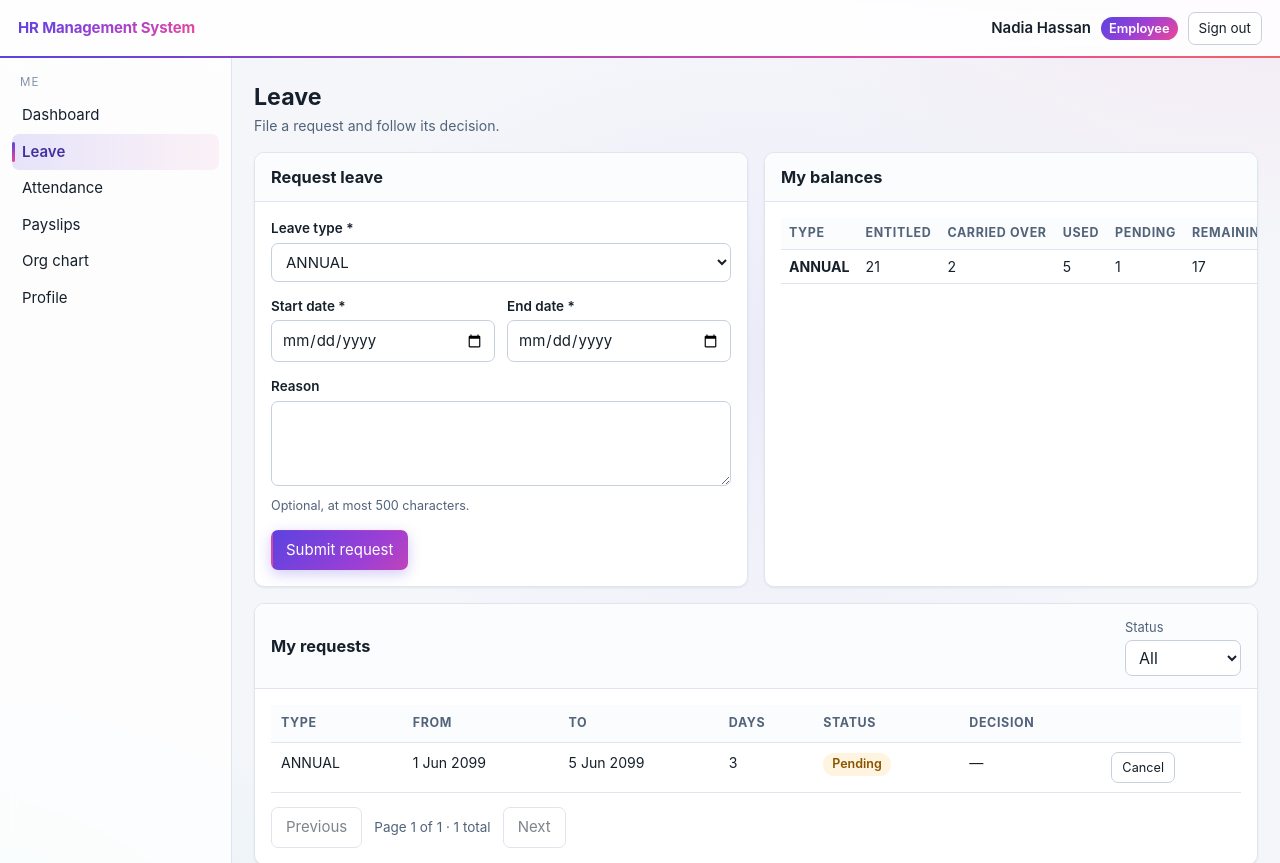
it: leave page › shows the 409 message when the range overlaps an existing request
The image size is (1280, 863).
Type "2099-06-01" into the date field labelled "Start date *". click: (383, 341)
box: [271,320,495,362]
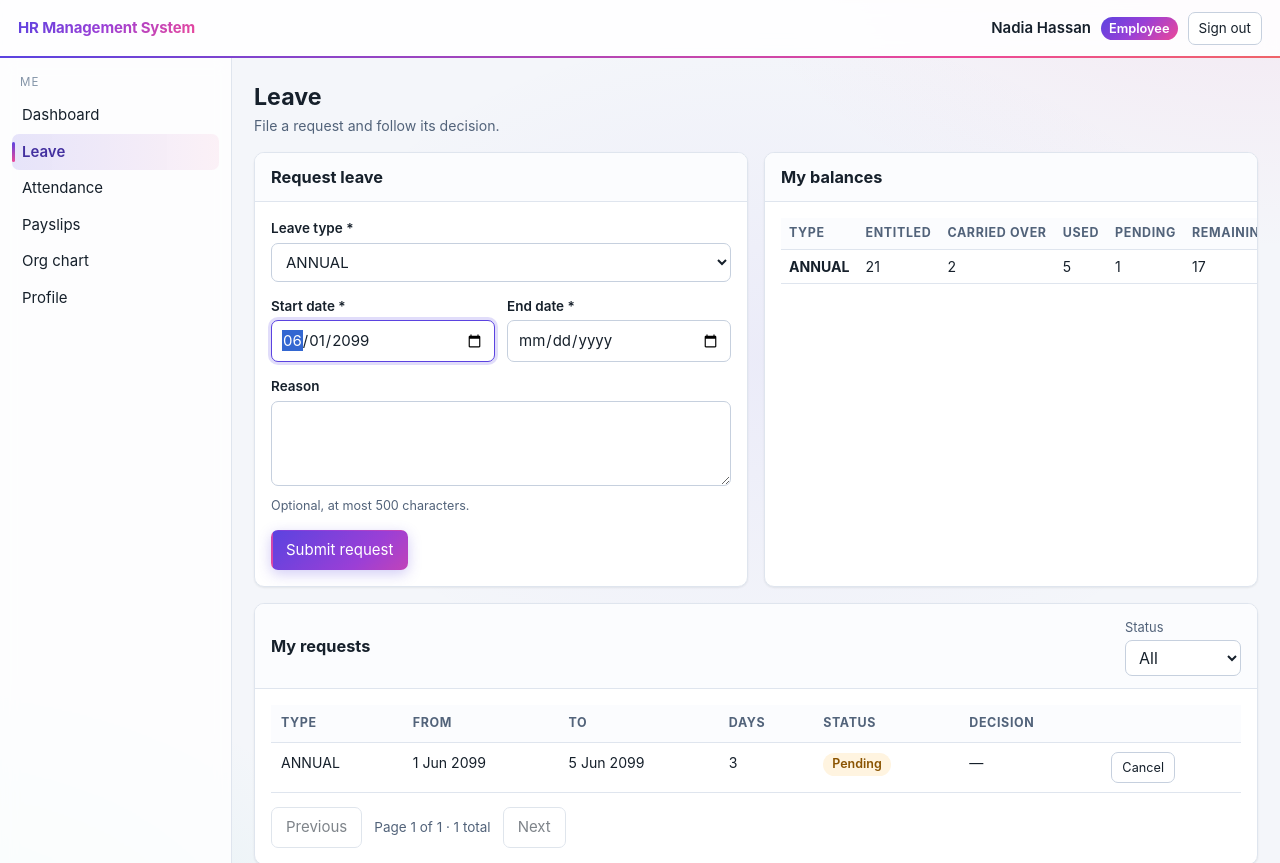
Type "2099-06-05" into the date field labelled "End date *". click: (619, 341)
box: [507,320,731,362]
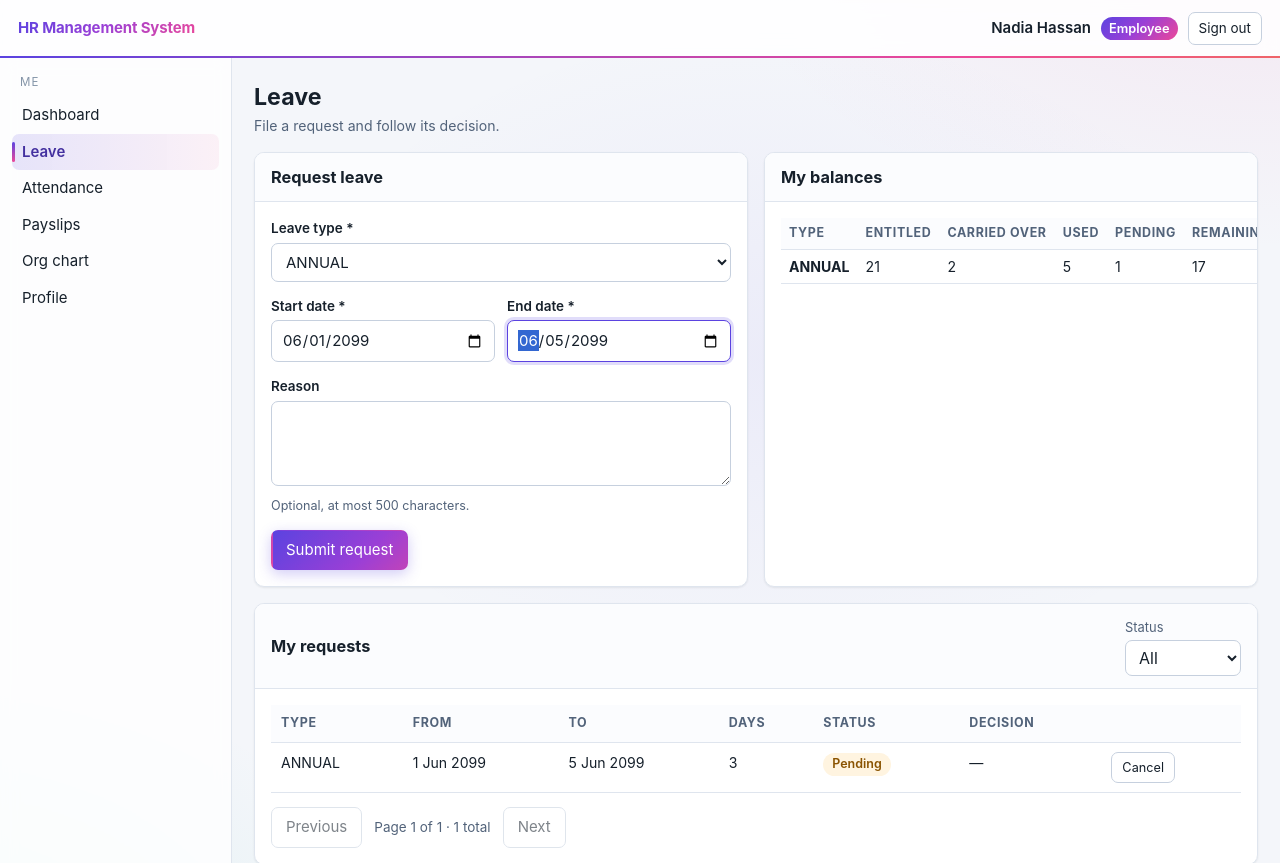
Click the button "Submit request". click: (340, 550)
box: [271,530,408,570]
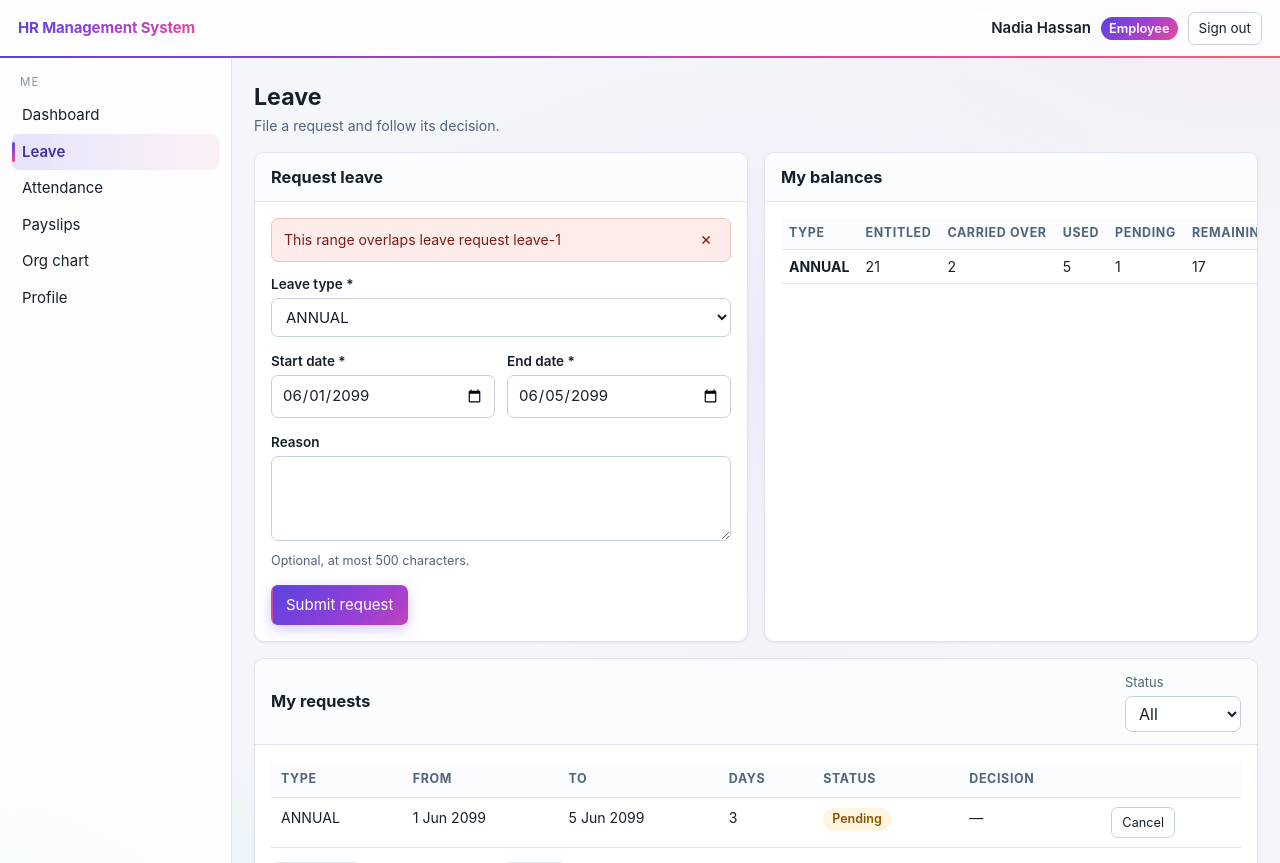
Now the message shows "This range overlaps leave request leave-1", box [284,231,561,248]
